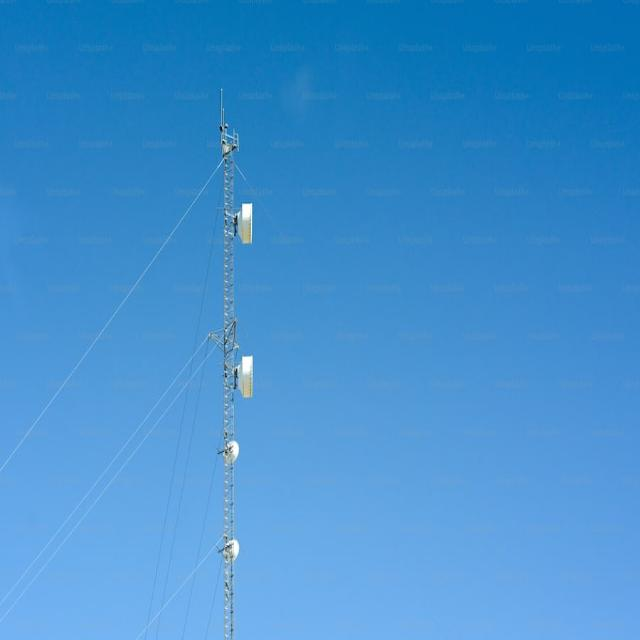transmission tower: (154, 82, 308, 604)
